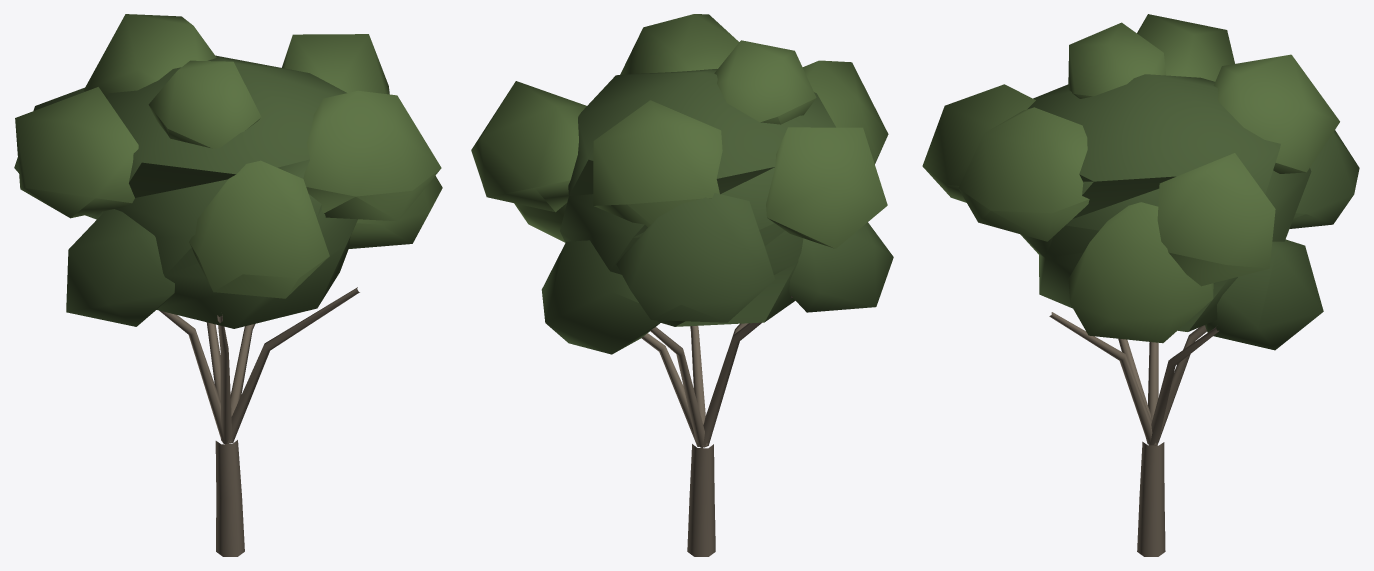
The model's file is tree_b.glb.
3 views of the same model, side by side, from view 1: azimuth 30°, elevation 25°; view 2: azimuth 150°, elevation 25°; view 3: azimuth 270°, elevation 25° (orthographic). The views are drawn at different scales.
Parts seen in each view (by area): view 1: tree_b; view 2: tree_b; view 3: tree_b.
Part boxes in pixels (box(x1,y1,x2,y2)): tree_b: box(14, 14, 442, 556); tree_b: box(471, 14, 893, 556); tree_b: box(922, 14, 1359, 556).
Size of the model in its own units: 7.26 by 9 by 7.16.
